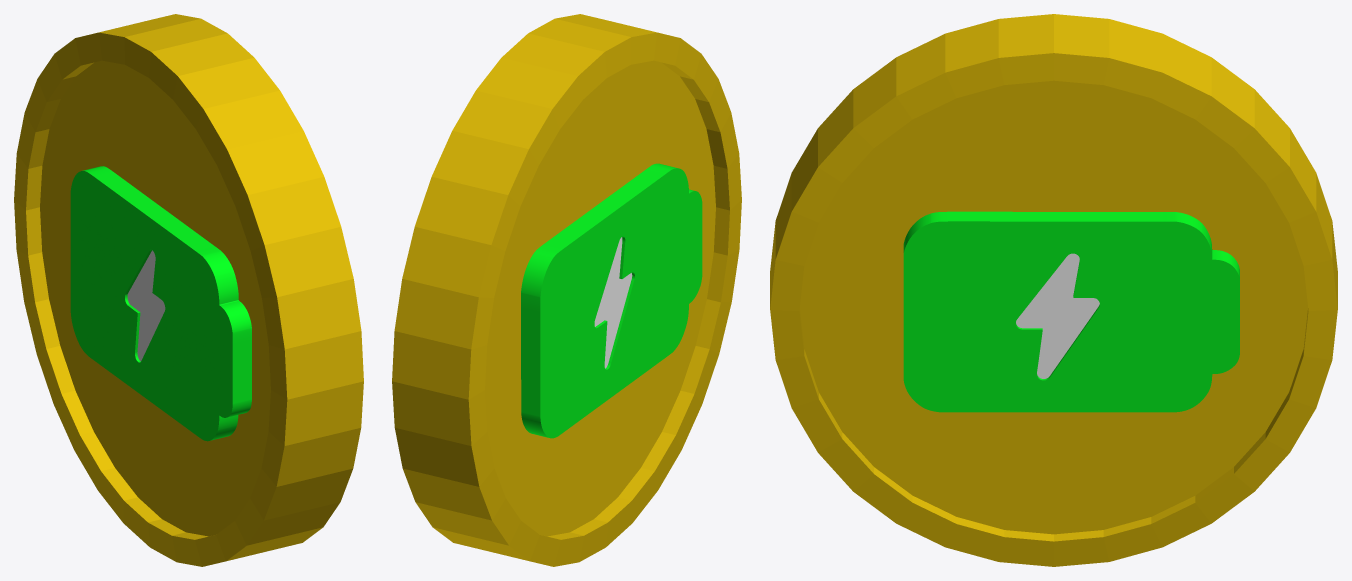
Rendered from BatteryCoin3.fbx.
3 renders of one model, left to right at view 1: azimuth 30°, elevation 25°; view 2: azimuth 150°, elevation 25°; view 3: azimuth 270°, elevation 25°, orthographic. The views are drawn at different scales.
Parts seen in each view (by area): view 1: Body, Front, Lightning; view 2: Body, Front, Lightning; view 3: Body, Back, Lightning.
Boxes of the visible parts, x1,y1,x2,y2 form: Body: (14, 14, 363, 566); Front: (70, 166, 251, 441); Lightning: (127, 250, 165, 361); Body: (392, 14, 741, 566); Front: (521, 163, 702, 438); Lightning: (594, 237, 632, 368); Body: (770, 14, 1337, 566); Back: (903, 211, 1239, 412); Lightning: (1016, 253, 1099, 378).
Bounding box in the file's own units: 598 × 116 × 598.
